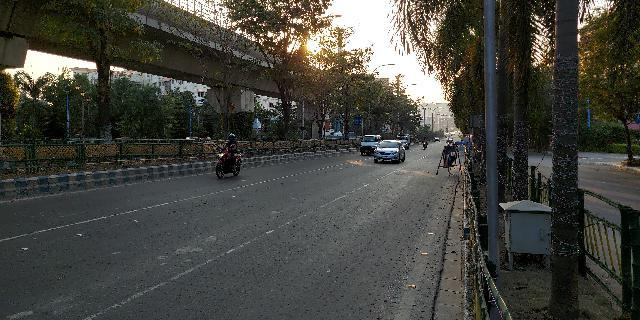Car: (373, 139, 405, 165), (356, 132, 379, 156)
Motorbike: (210, 129, 246, 181)
